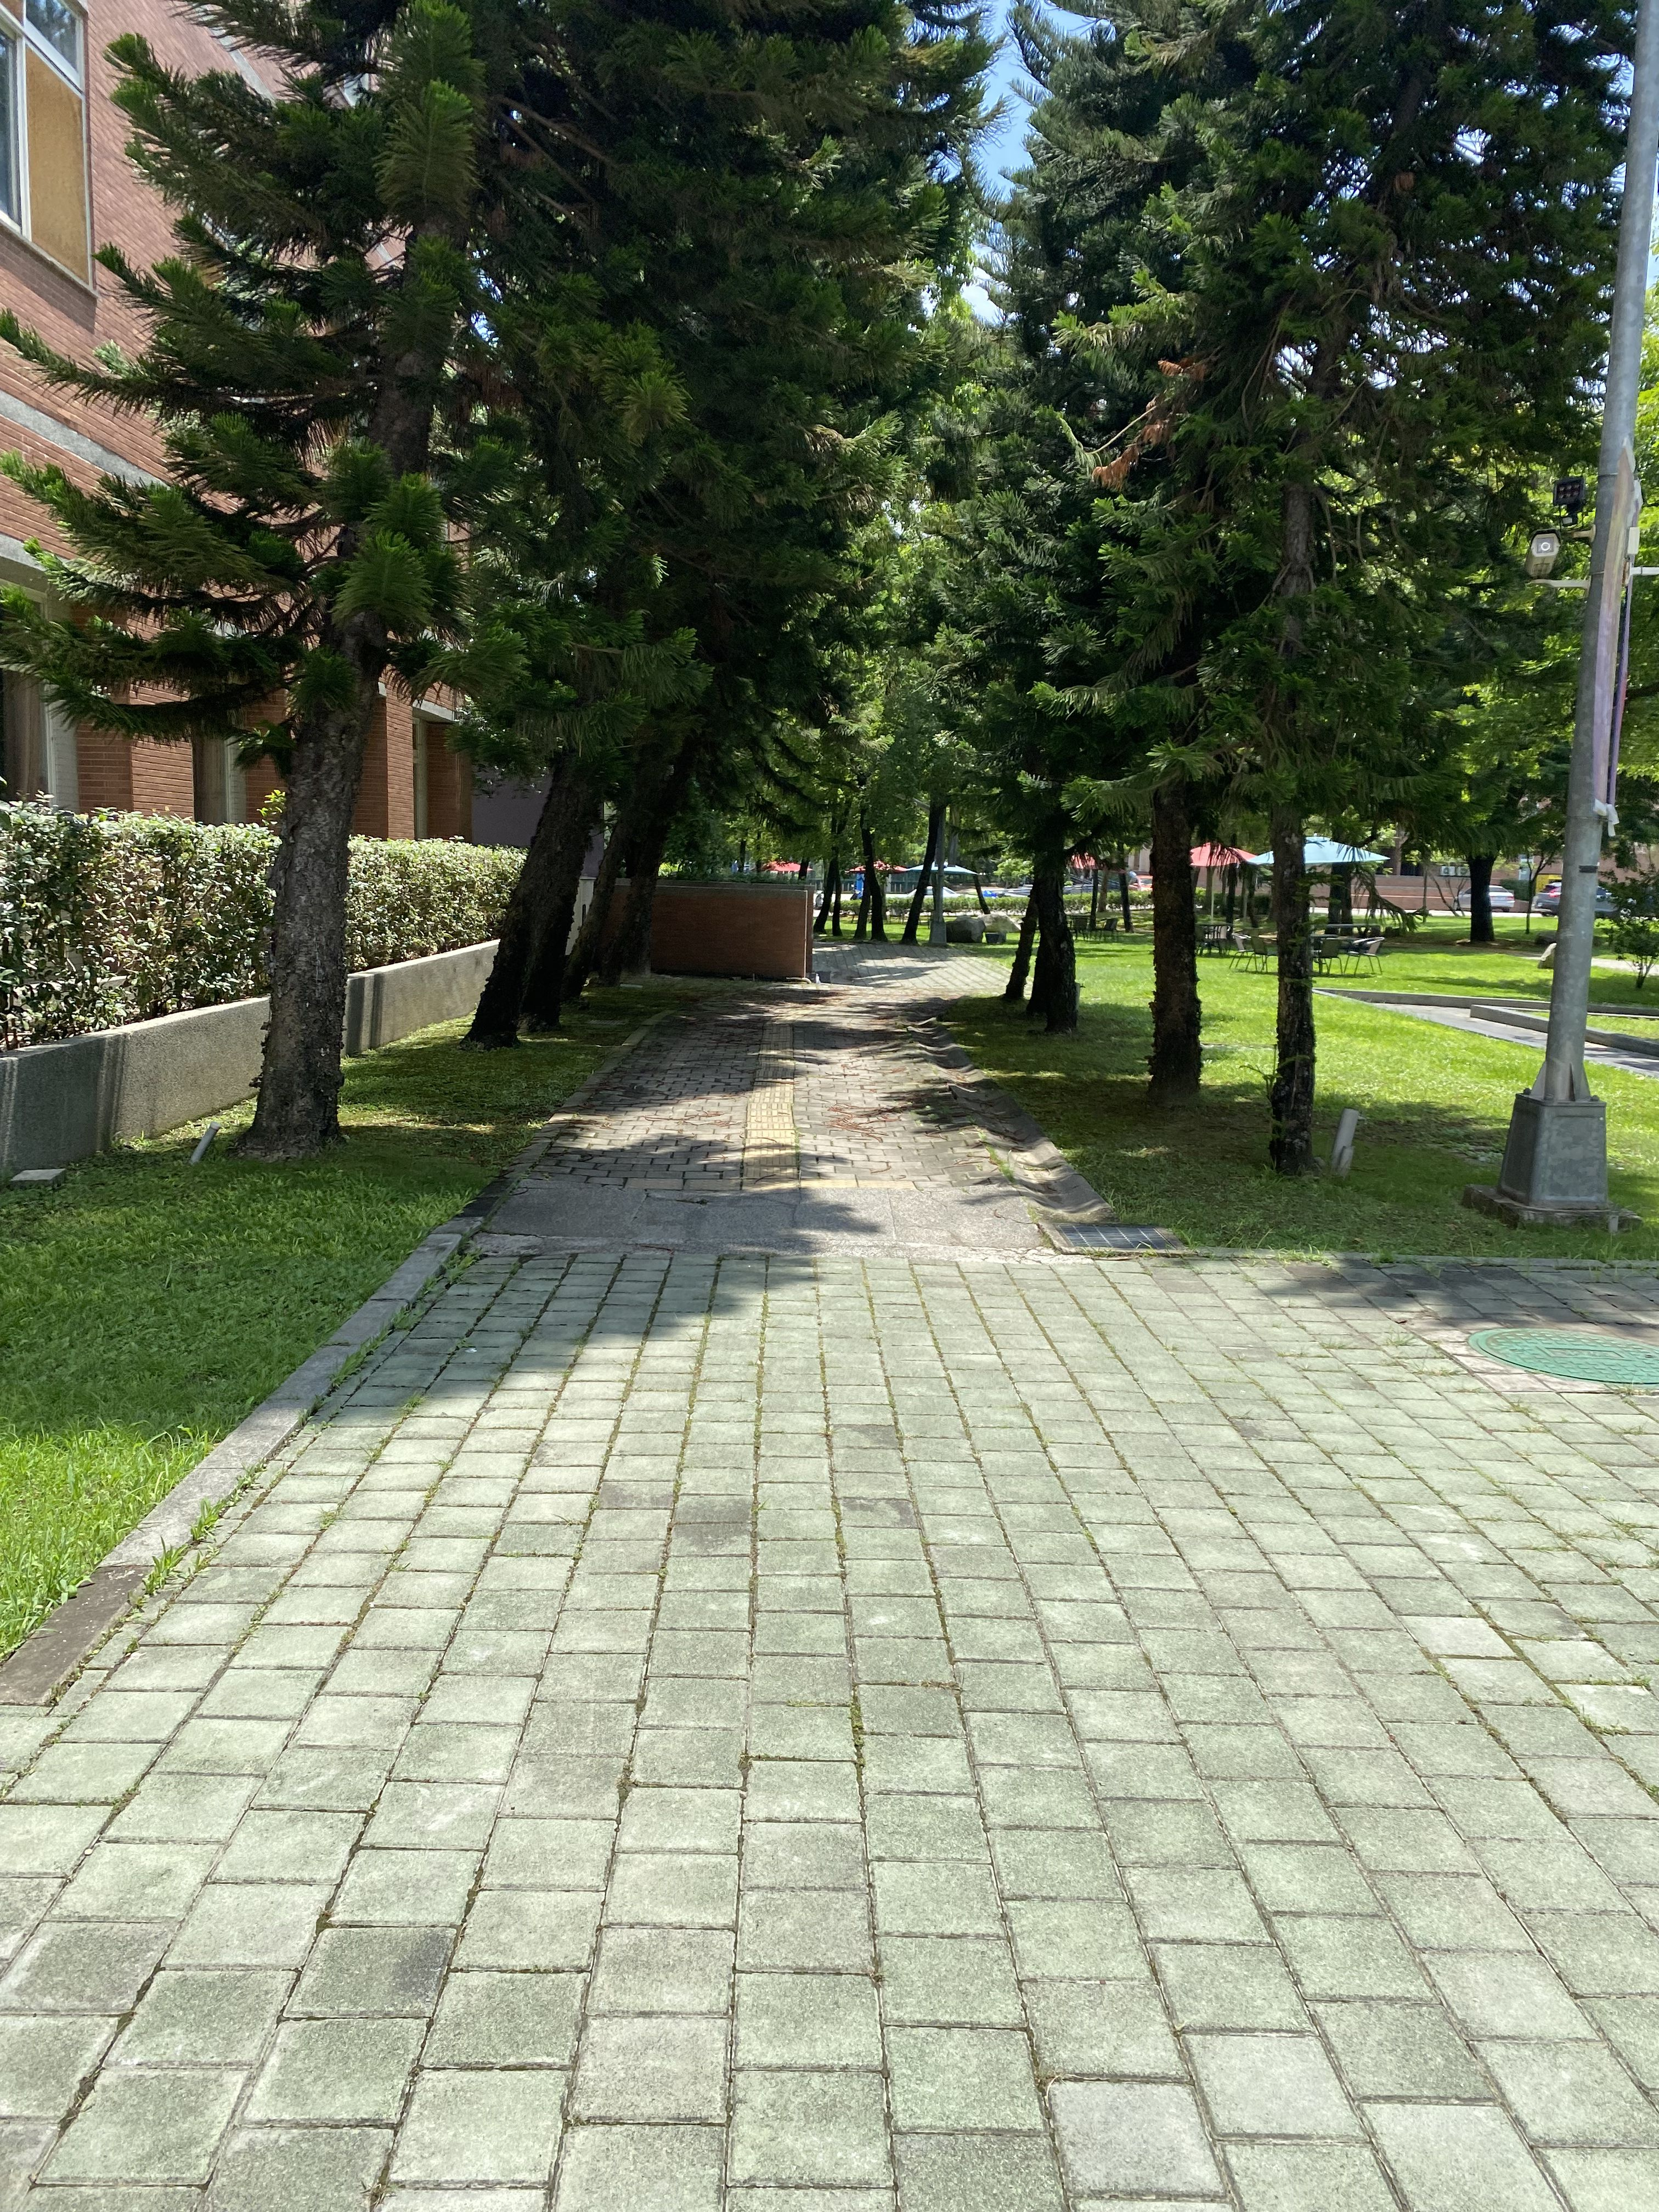0: (42, 1183, 1659, 2212)
sidewalk: (495, 895, 1216, 1378)
